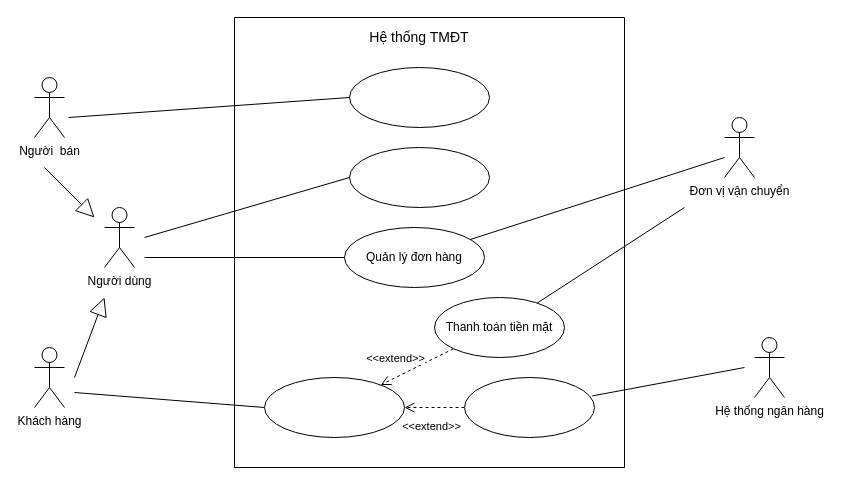
Image size: 841x486. Some labels were removed from this diagram. The box of each missing label's shape, as (x1, y1, x2, y2) in pixels:
Giỏ hàng và thanh toán: (264, 376, 404, 438)
Quản lý sản phẩm: (348, 66, 490, 128)
Thanh toán qua hệ thống ngân hàng: (464, 376, 594, 438)
Tìm kiếm và xem sản phẩm: (348, 146, 490, 208)
